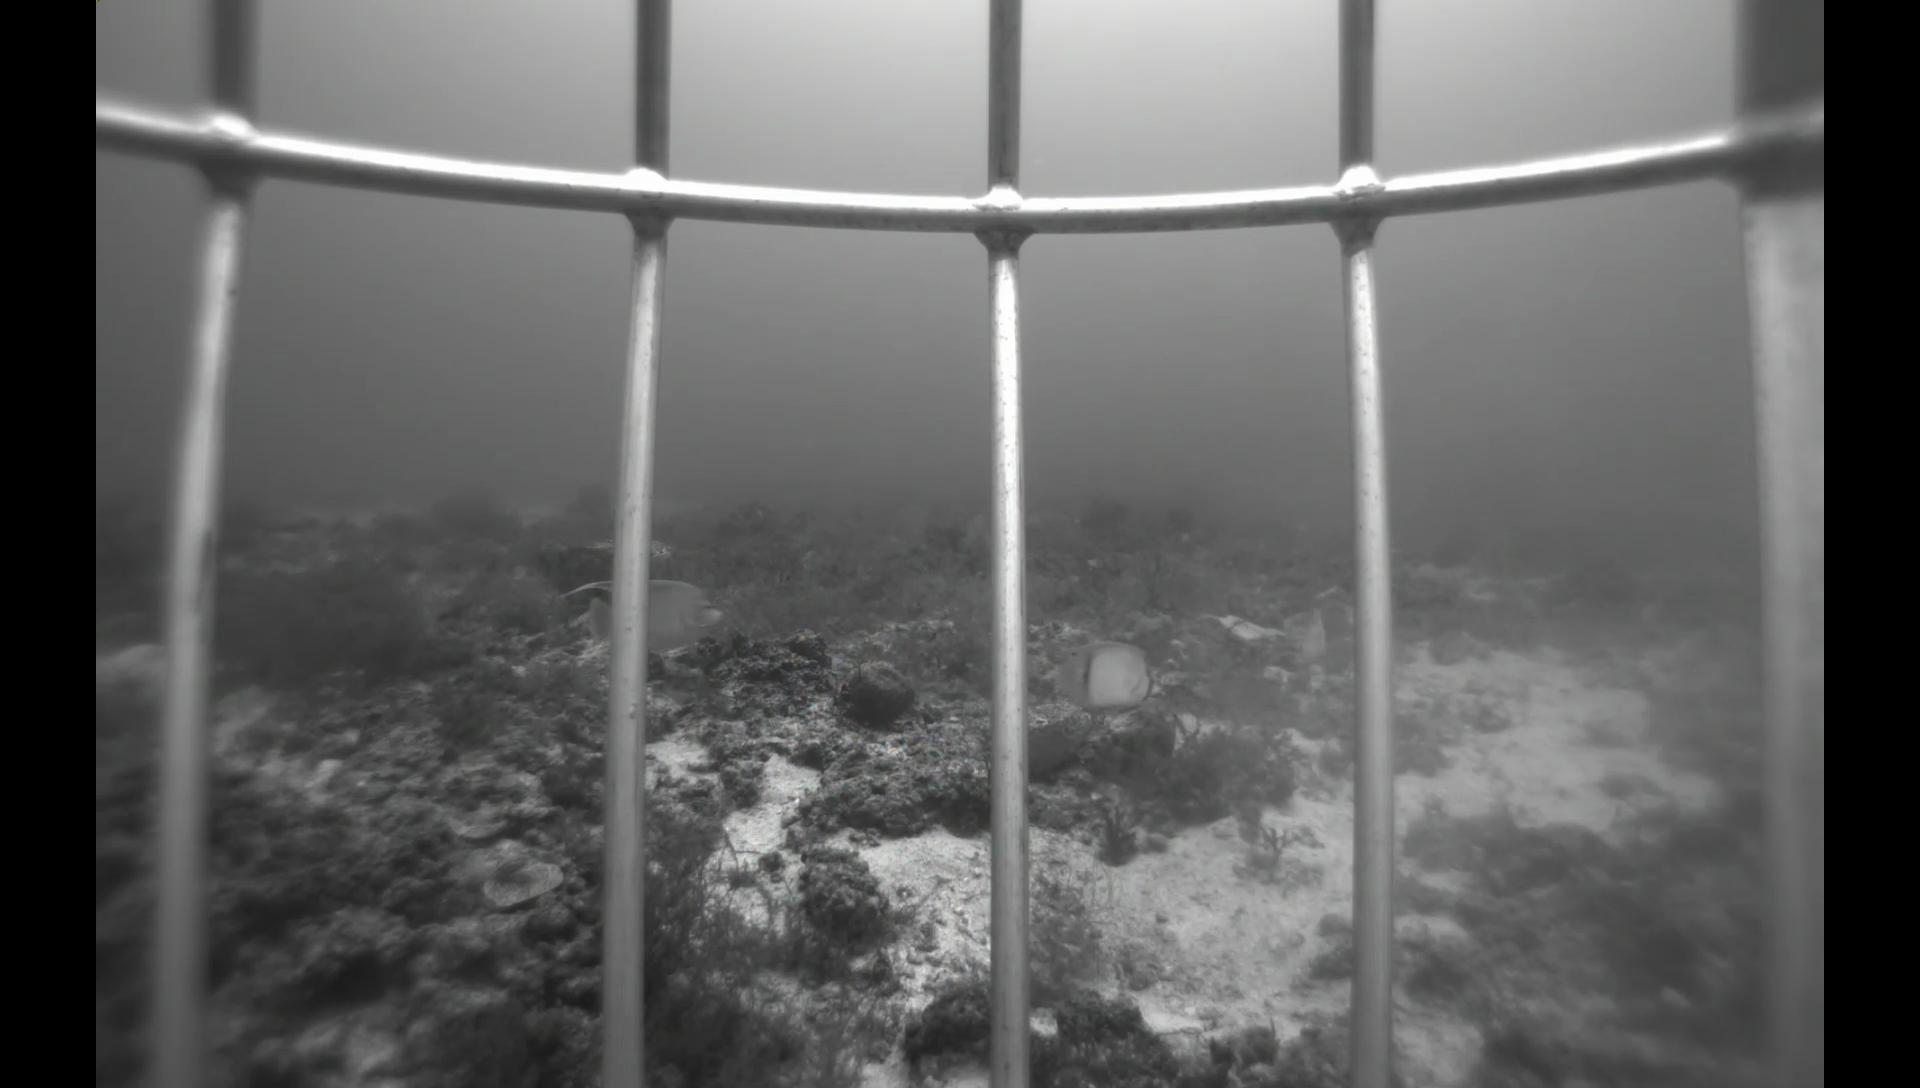CHAETODONOCELLATUS-170260307: (1054, 636, 1170, 716), (1282, 604, 1337, 674)
HOLACANTHUSBERMUDENSIS-170290102: (549, 570, 735, 673)
MYCTEROPERCAPHENAX-170022105: (948, 512, 992, 560)
